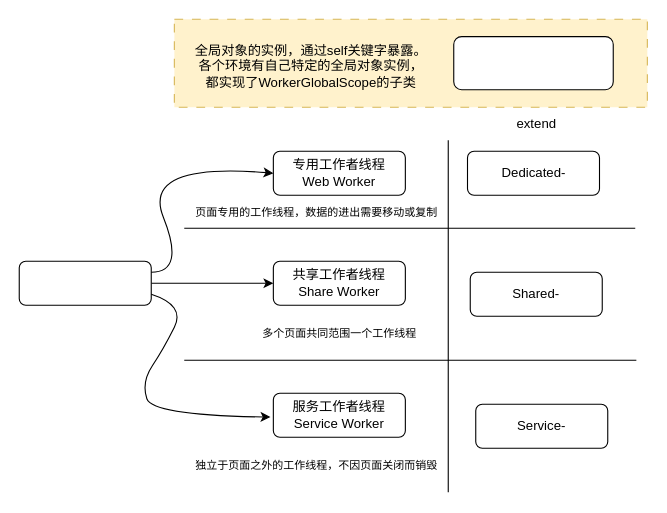
Some shapes in this 667 by 513 pixel diagram are drawn without their labels. Each missing label, with the box of its shape:
WorkerGlobalScope: (453, 36, 613, 90)
工作者线程: (18, 260, 151, 305)
